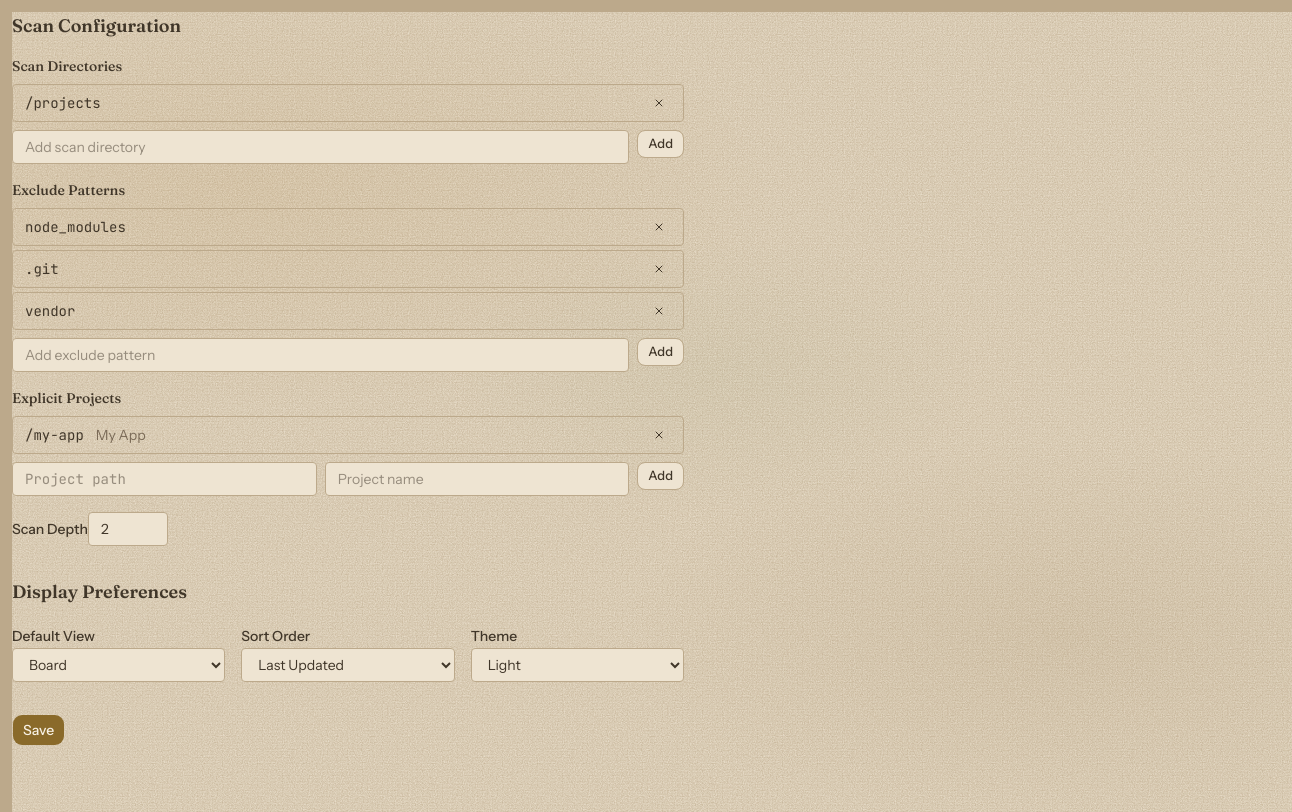
Test: SettingsForm › shows success feedback after save
This screenshot has width=1292, height=812.
Click the button "Save".
click(39, 730)  # box x1=12 y1=714 x2=65 y2=746
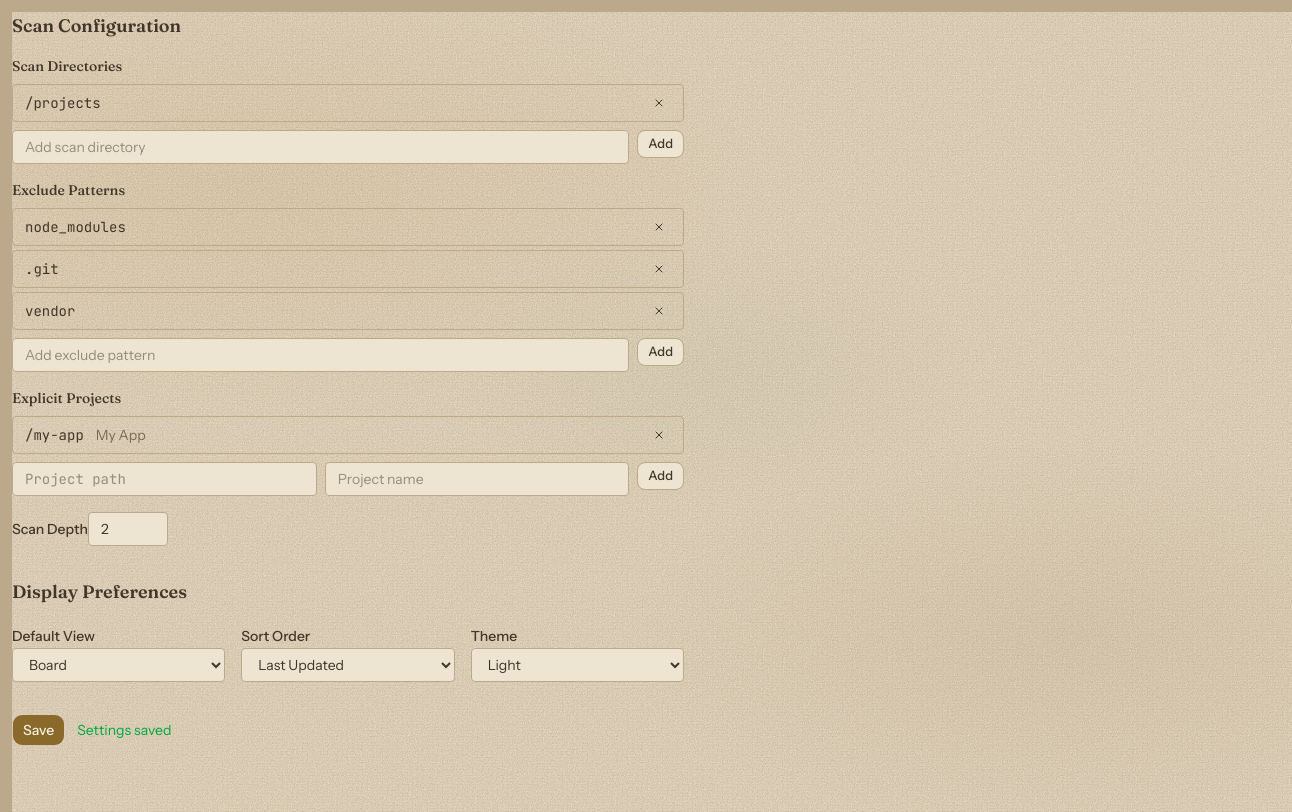
Now the text "Settings saved" is shown, box x1=77 y1=720 x2=172 y2=740
